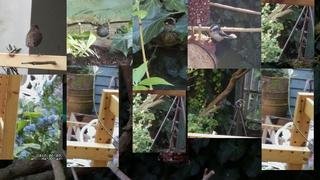long tailed tit: (206, 24, 237, 45)
robin: (25, 24, 43, 57)
sparrow: (93, 24, 109, 39)
